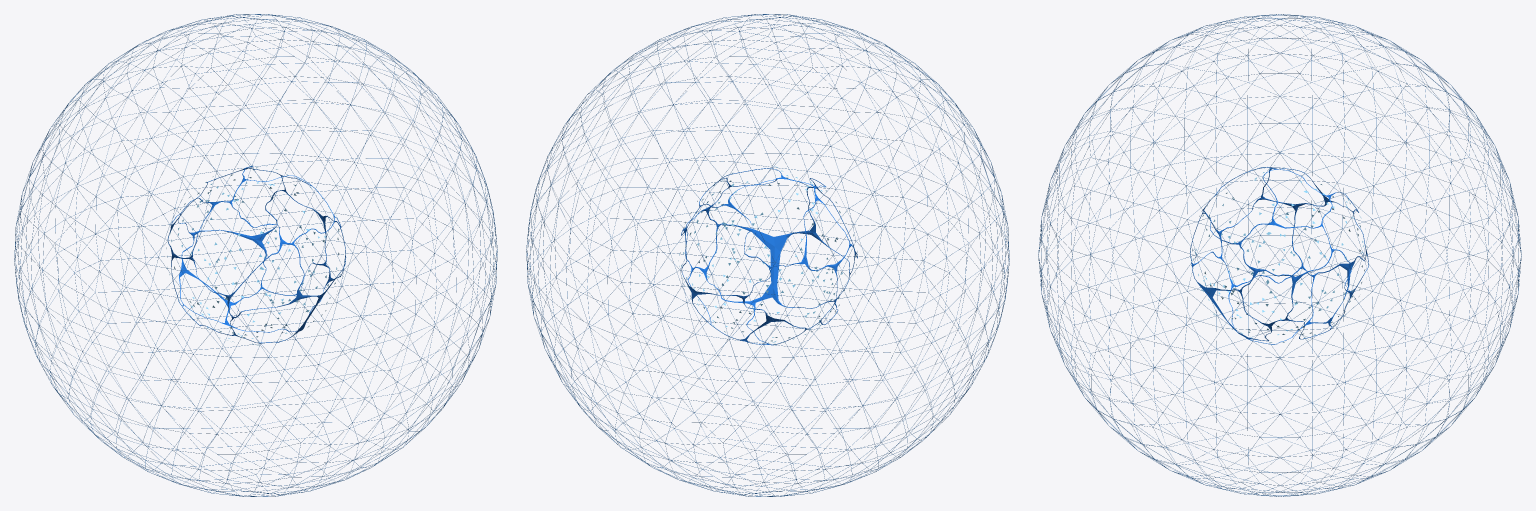
Rendered from tupuqiu5.gltf.
The picture shows the model from 3 angles, left to right: view 1: azimuth 30°, elevation 25°; view 2: azimuth 150°, elevation 25°; view 3: azimuth 270°, elevation 25°; orthographic projection.
Parts seen in each view (by area): view 1: 棱角球, 棱角球.001, 棱角球.002; view 2: 棱角球, 棱角球.001, 棱角球.002; view 3: 棱角球, 棱角球.001, 棱角球.002.
Boxes of the visible parts, <box> form: 棱角球: <box>14,14,497,496</box>; 棱角球.001: <box>167,165,346,343</box>; 棱角球.002: <box>166,165,345,345</box>; 棱角球: <box>526,14,1009,496</box>; 棱角球.001: <box>681,168,857,345</box>; 棱角球.002: <box>678,166,857,344</box>; 棱角球: <box>1038,14,1521,496</box>; 棱角球.001: <box>1190,167,1368,344</box>; 棱角球.002: <box>1190,165,1367,342</box>.
Size of the model in its own units: 5.91 by 5.91 by 5.91.
